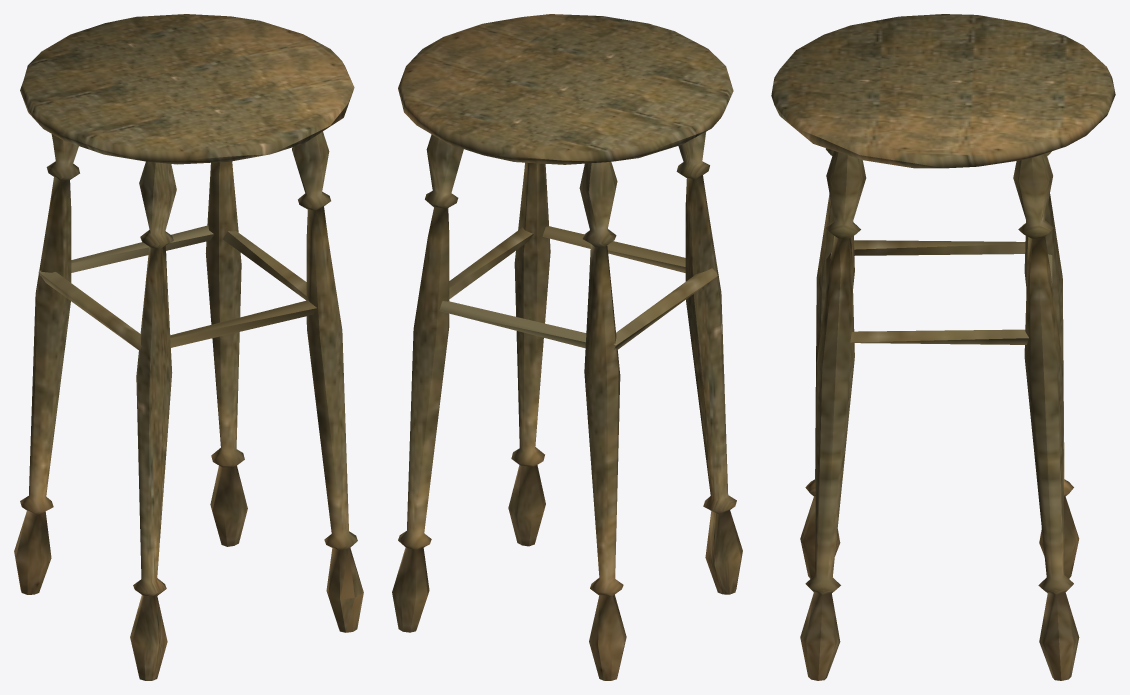
Rendered from stool.glb.
3 renders of one model, left to right at view 1: azimuth 30°, elevation 25°; view 2: azimuth 150°, elevation 25°; view 3: azimuth 270°, elevation 25°, orthographic. The views are drawn at different scales.
Visible parts, largest first — view 1: stool.ms3d.mo; view 2: stool.ms3d.mo; view 3: stool.ms3d.mo.
Boxes of the visible parts, <box> form: stool.ms3d.mo: <box>14,14,363,680</box>; stool.ms3d.mo: <box>392,14,742,680</box>; stool.ms3d.mo: <box>771,14,1115,680</box>.
Bounding box in the file's own units: 94.7 × 165 × 94.61.
Materials: 1 (1 with a texture image).
